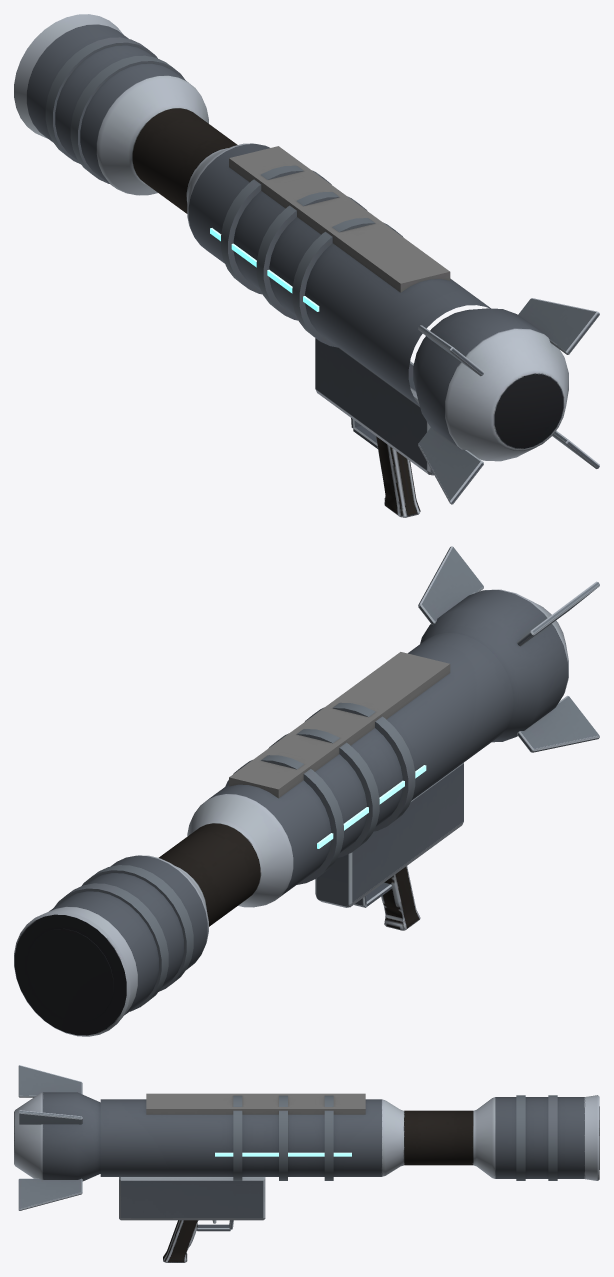
The picture shows the model from 3 angles, top to bottom: view 1: azimuth 30°, elevation 25°; view 2: azimuth 150°, elevation 25°; view 3: azimuth 270°, elevation 25°; orthographic projection. The views are drawn at different scales.
Parts seen in each view (by area): view 1: body; view 2: body; view 3: body.
Part boxes in pixels (x1,y1,x2,y2): body: [14, 14, 599, 517]; body: [14, 546, 599, 1036]; body: [14, 1065, 599, 1262].
Size of the model in its own units: 0.2425 by 0.4152 by 1.28.
1 material, 1 textured.
